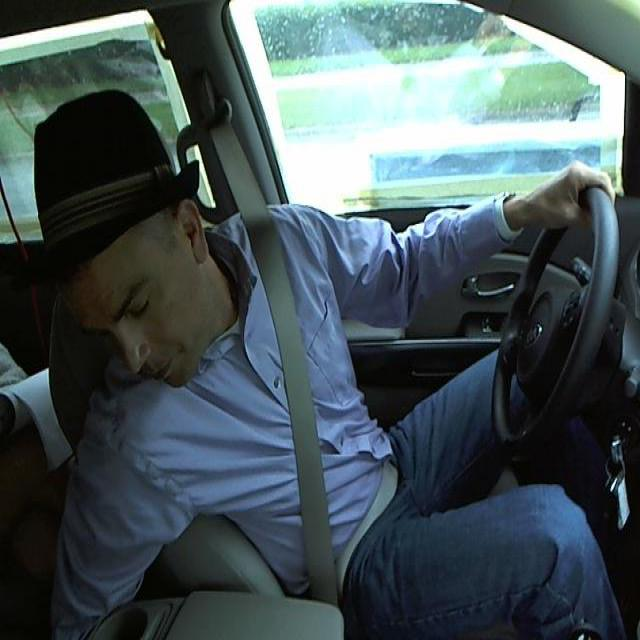seatbelt: (256, 233, 392, 583)
